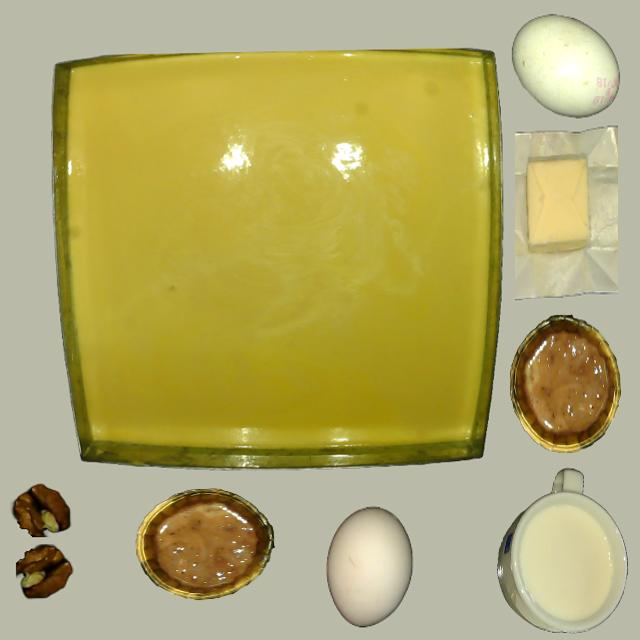Milk: (521, 507, 610, 618)
